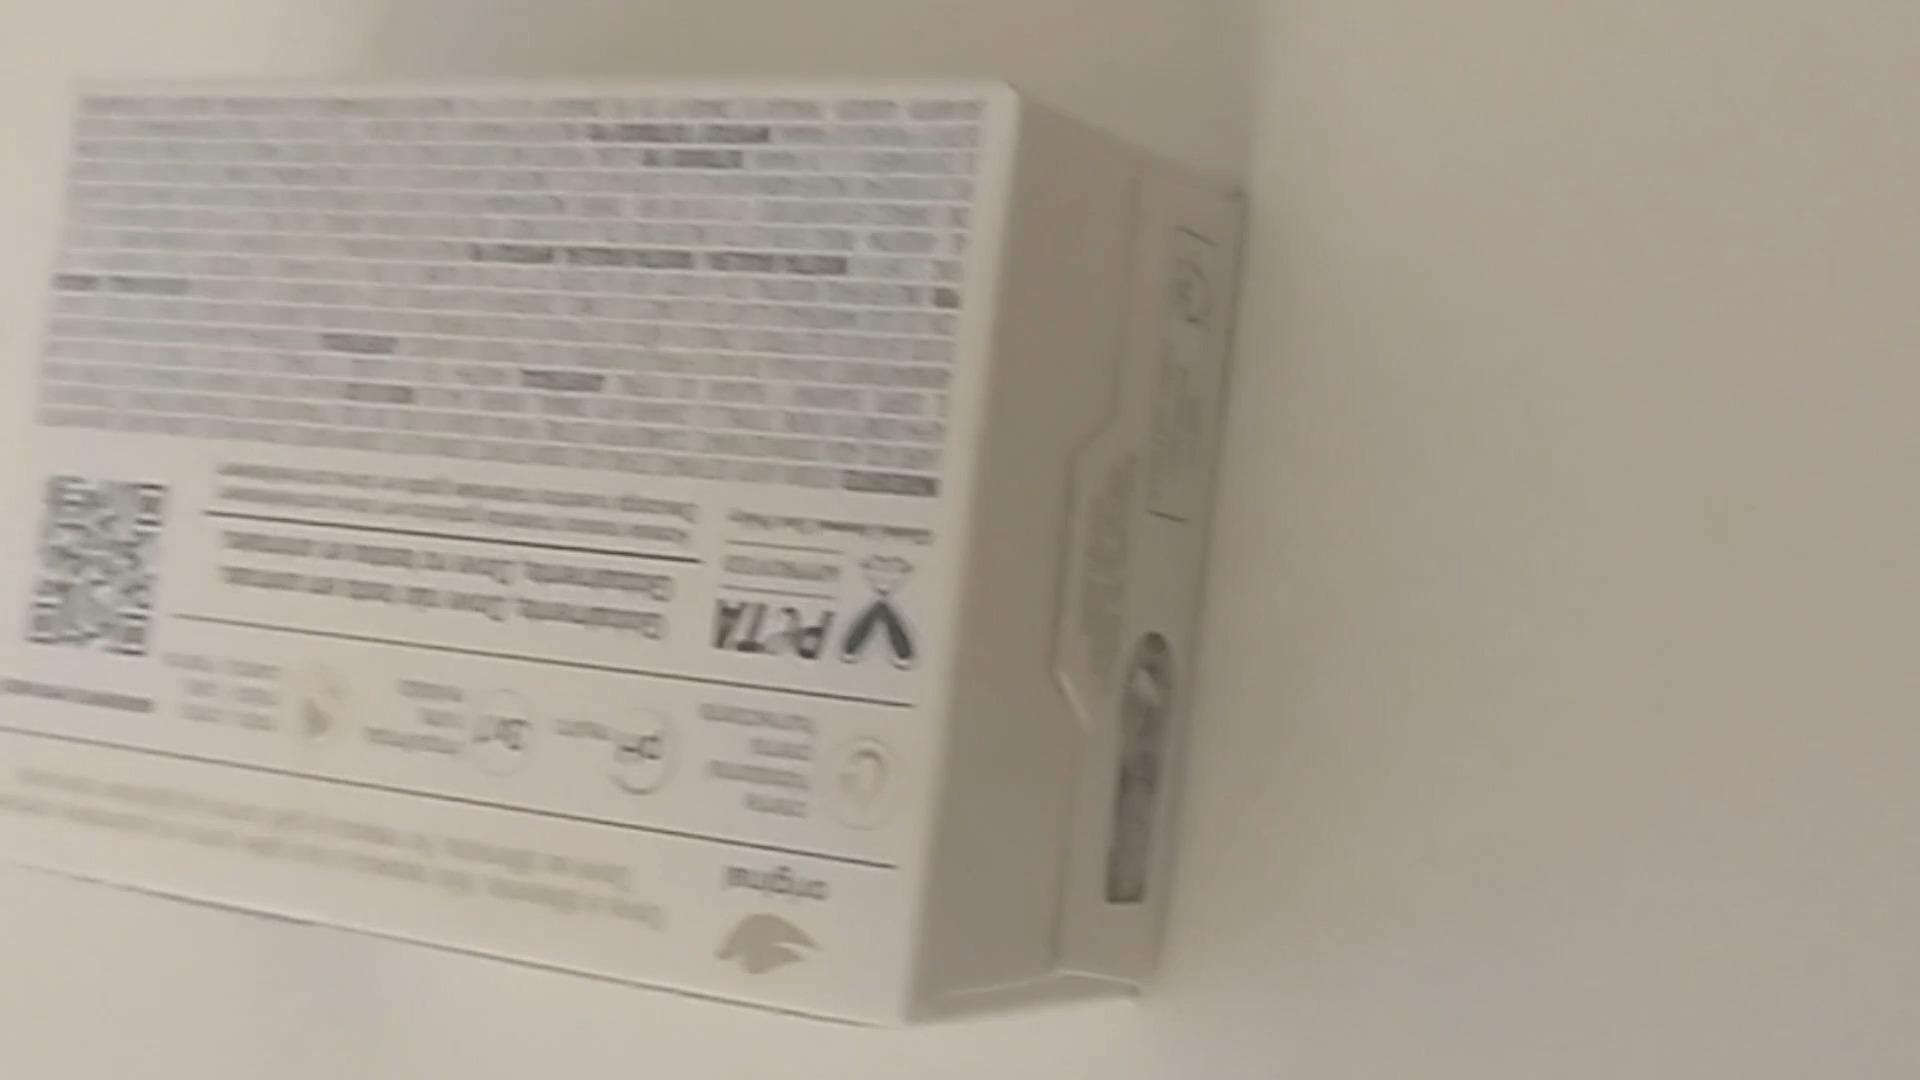soap: (0, 73, 1261, 1038)
